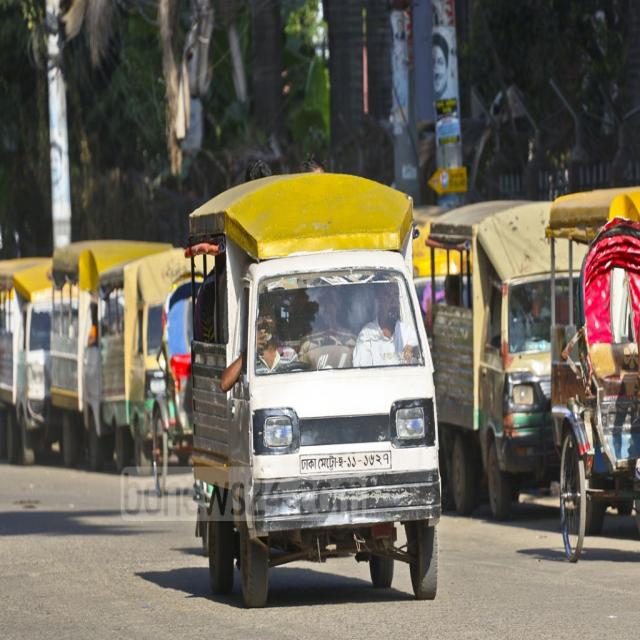Leguna: (187, 162, 443, 607), (429, 205, 570, 514)
Rickshaw: (560, 214, 640, 574)
